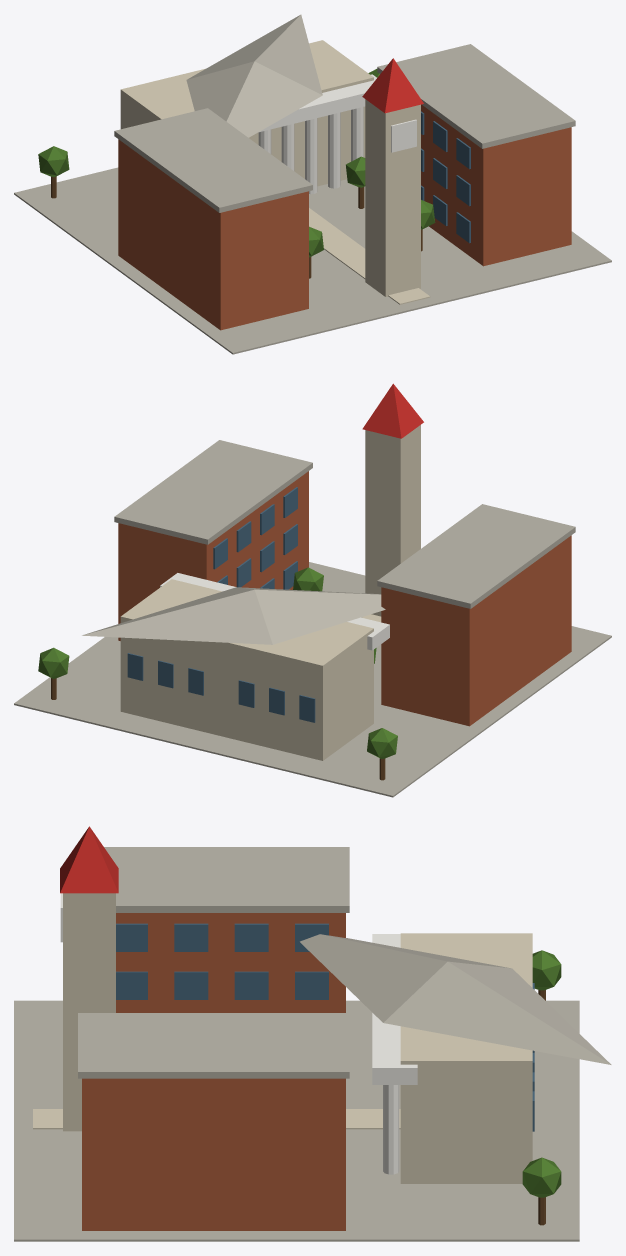
The model's file is universite.glb.
The picture shows the model from 3 angles, top to bottom: view 1: azimuth 30°, elevation 25°; view 2: azimuth 150°, elevation 25°; view 3: azimuth 270°, elevation 25°; orthographic projection. The views are drawn at different scales.
Visible parts, largest first — view 1: Alinlik; view 2: Alinlik; view 3: Alinlik.
Part boxes in pixels (x1,y1,x2,y2): Alinlik: [14, 14, 611, 354]; Alinlik: [14, 383, 611, 797]; Alinlik: [14, 826, 611, 1241].
Size of the model in its own units: 0.9461 by 0.5462 by 1.
